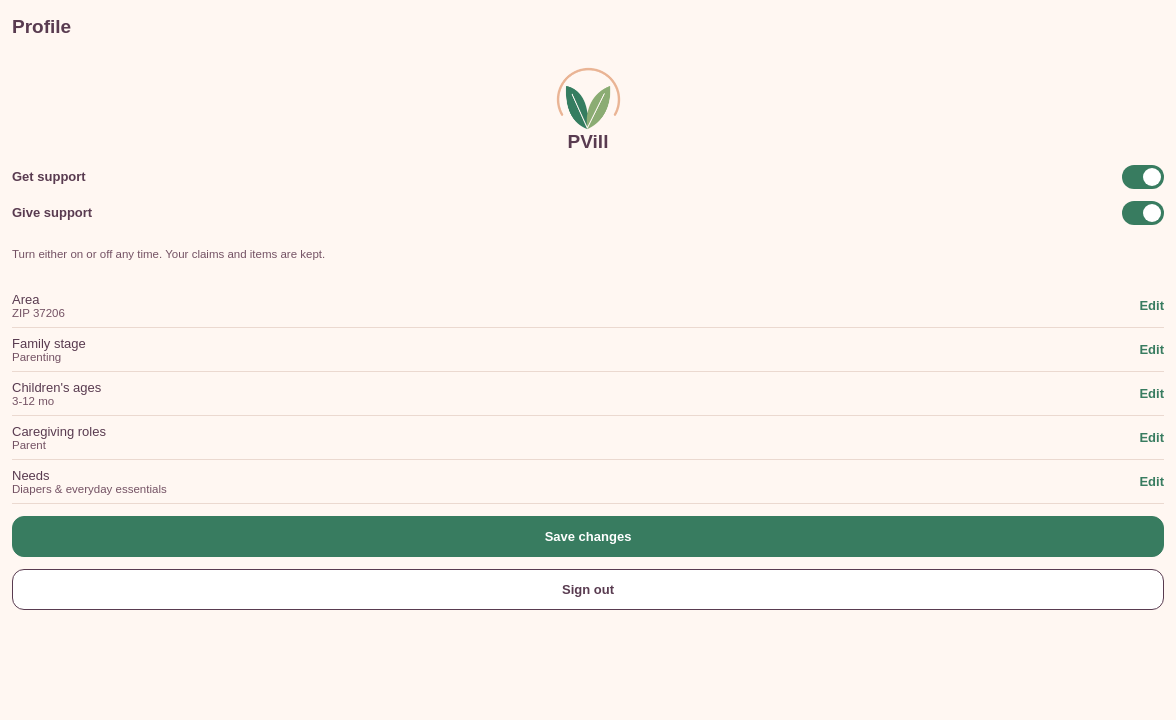
Test: ProfilePage (person) › can switch to Give only
Click the switch labelled "Get support" at x=1143, y=176, box [1122,164,1164,188]
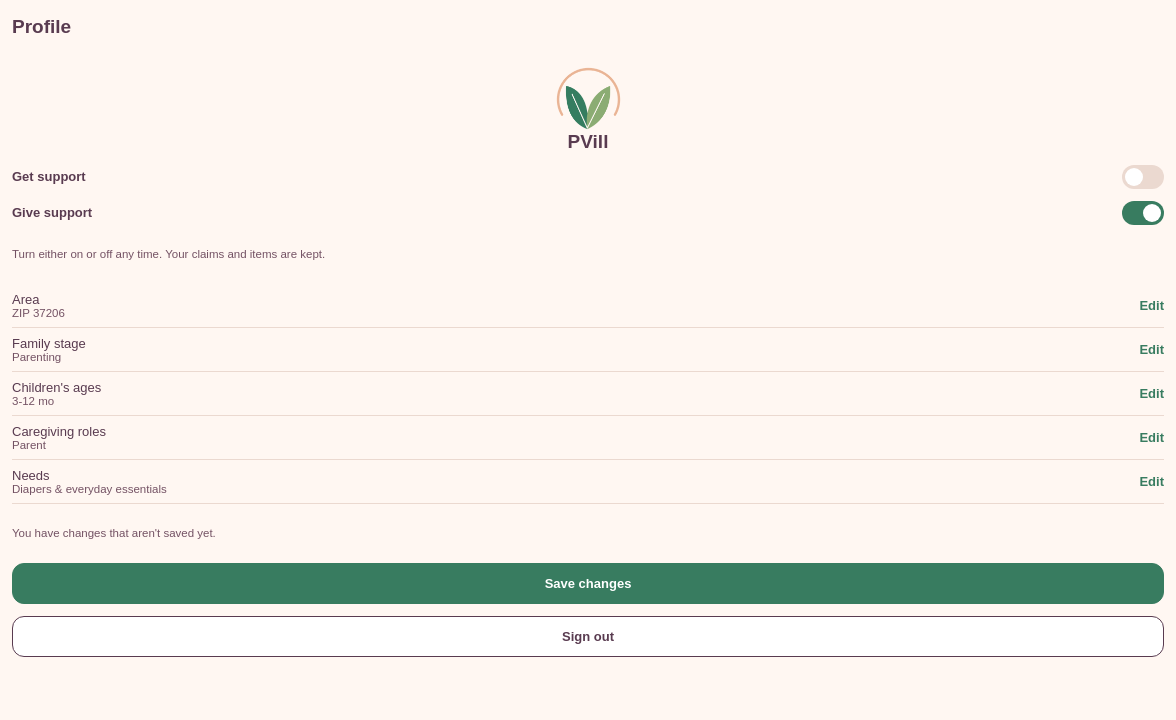
Click the button "Save changes" at x=588, y=583, box [12,562,1164,604]
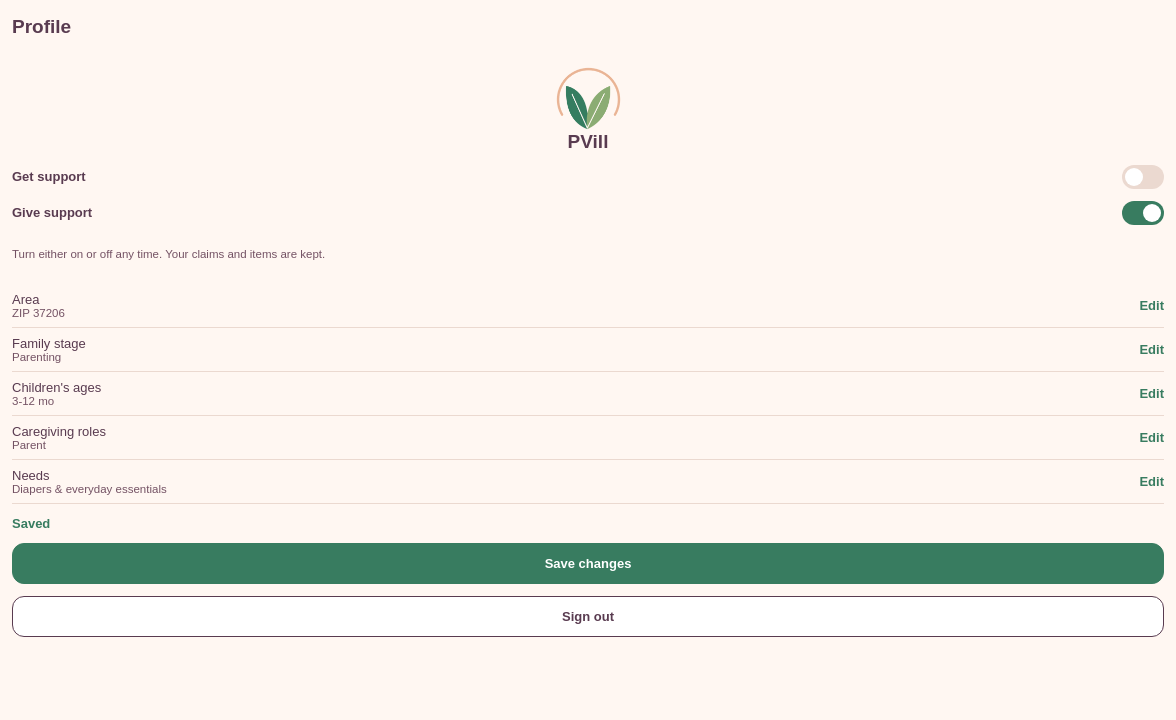
Now the text "Saved" is shown, box [12,516,50,530]
Click the switch labelled "Give support" at x=1143, y=212, box [1122,200,1164,224]
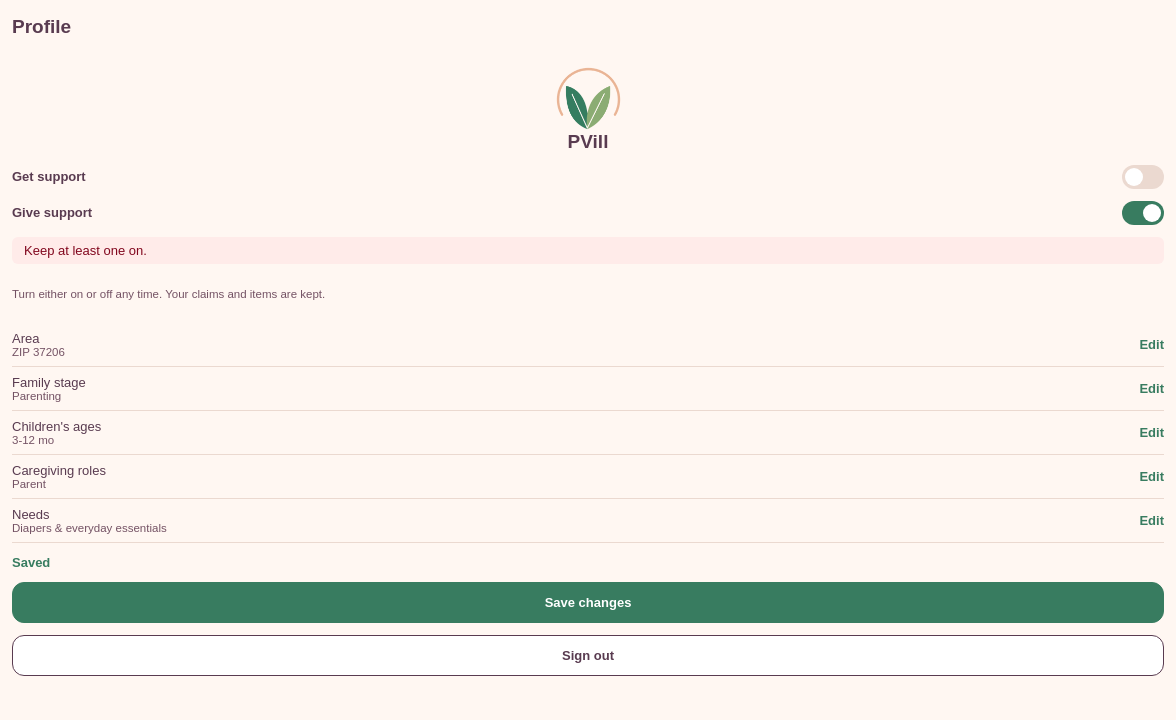
Now the text "Keep at least one on." is shown, box [12,236,1164,264]
